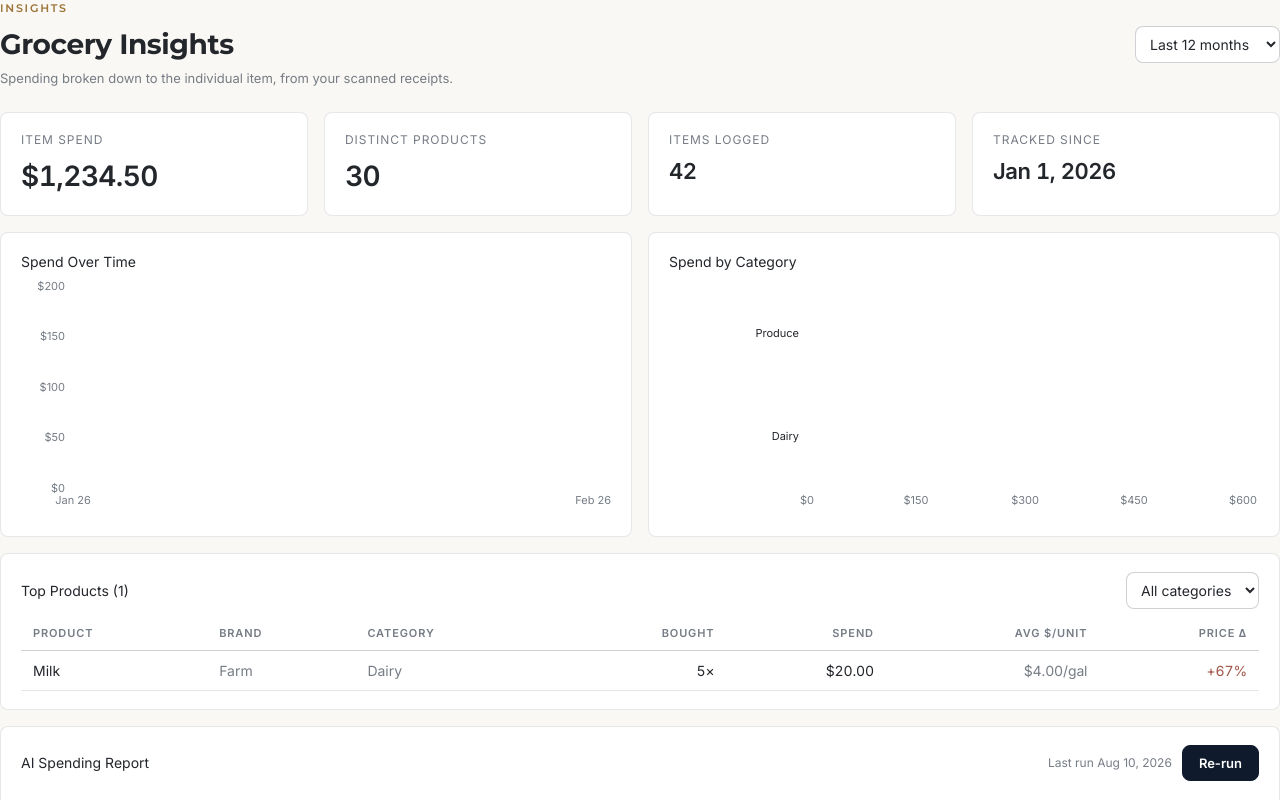
Test: GroceryAnalysis page › shows an existing AI report and re-runs it
Click the button "Re-run".
click(1220, 762)  # box left=1182, top=744, right=1259, bottom=780
(page scrolled)
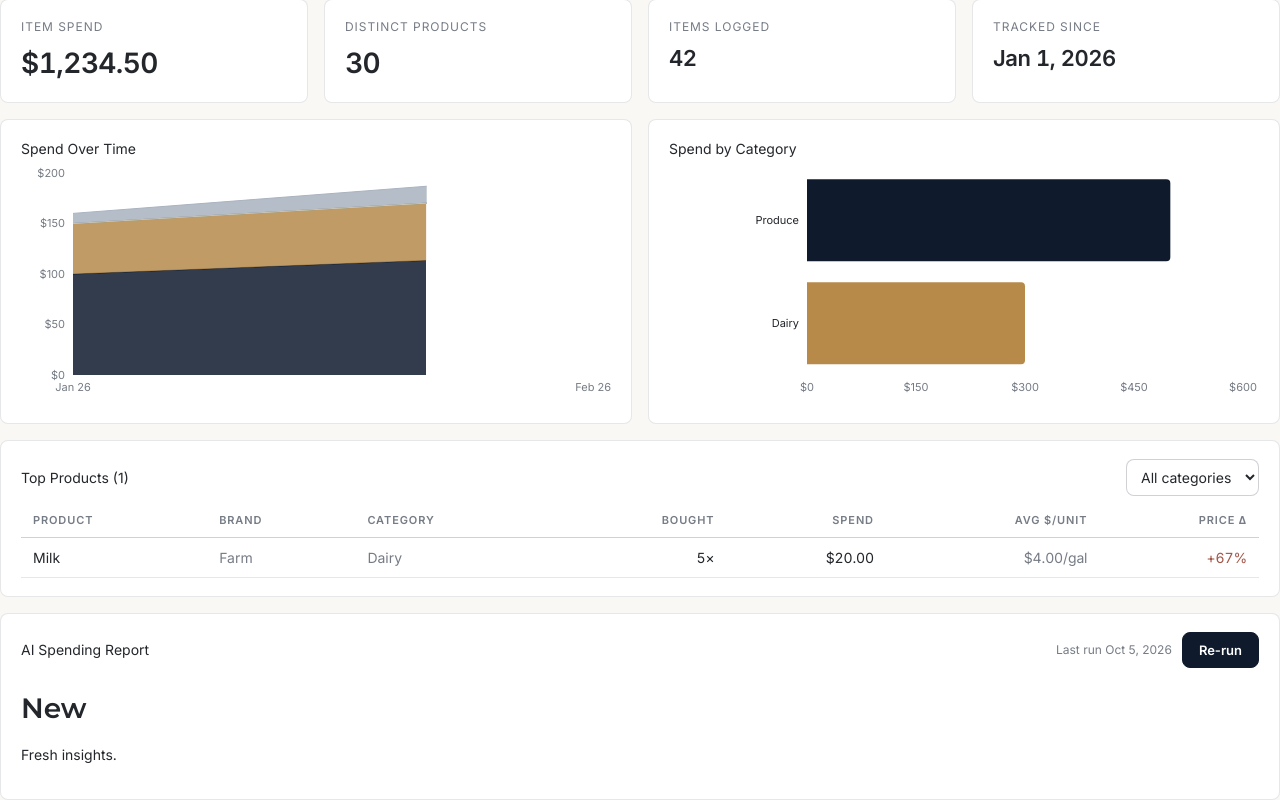
Expected: the heading "New" is shown, left=21, top=690, right=87, bottom=724
